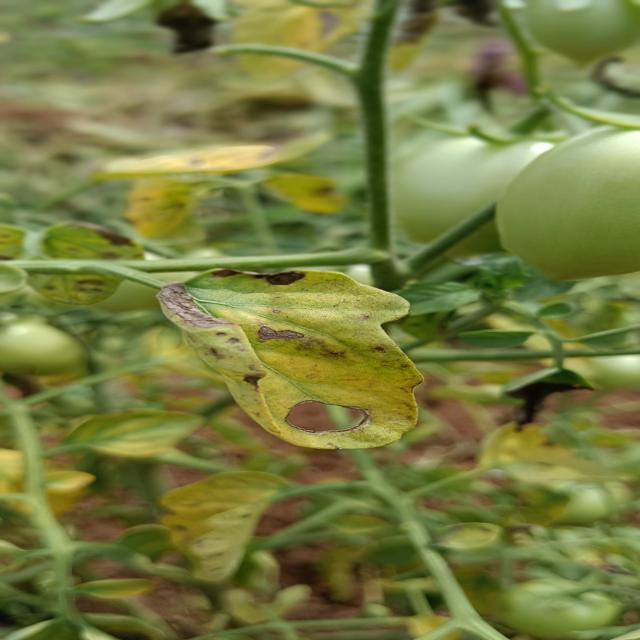tomato_early blight: (149, 263, 435, 455), (164, 471, 298, 588)
